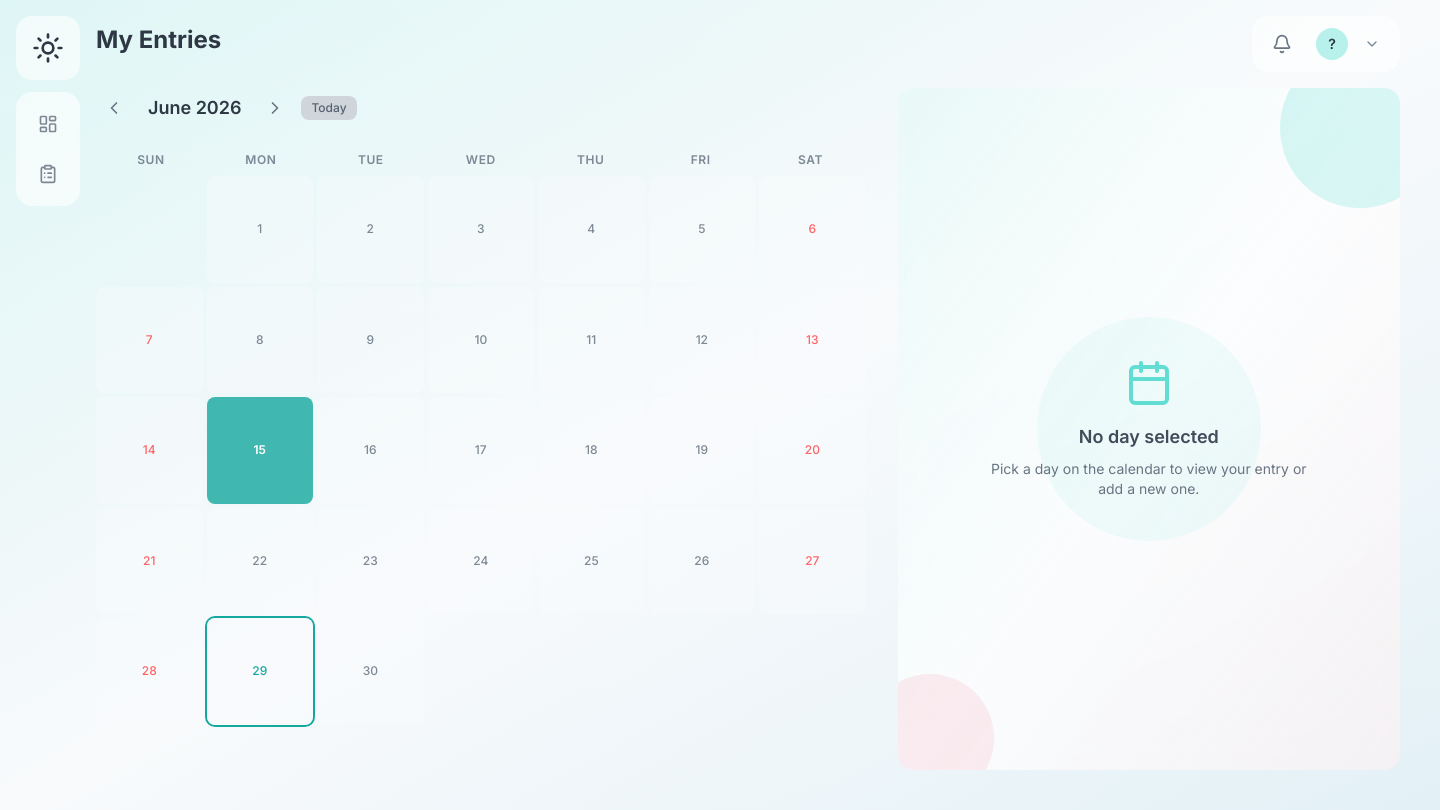
Test case: EntriesPage — delete confirmation flow › shows a delete error banner when remove fails
Click the button "15" at (260, 450), box [206,397,313,504]
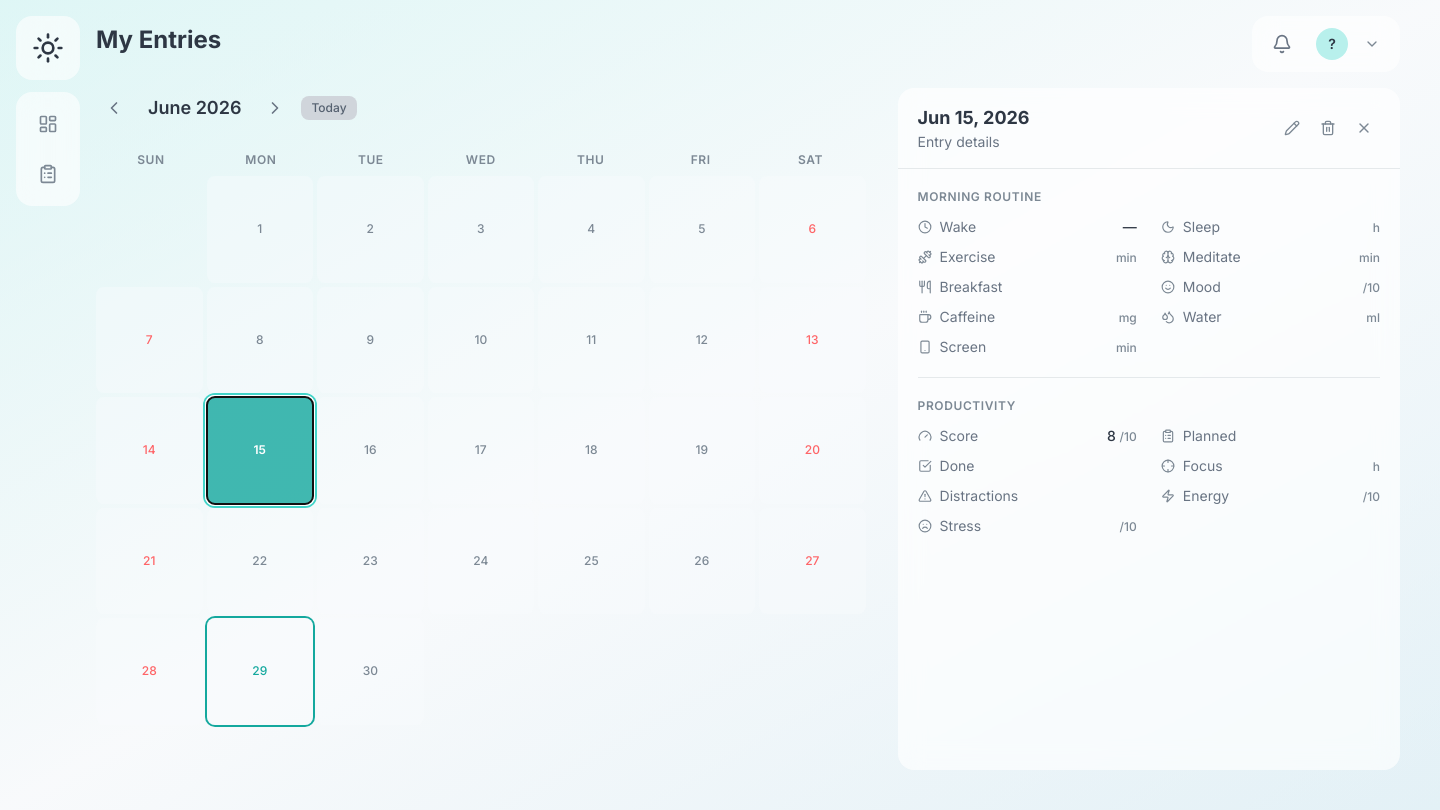
Click the button named "delete entry" at (1328, 128), box [1312,112,1344,144]
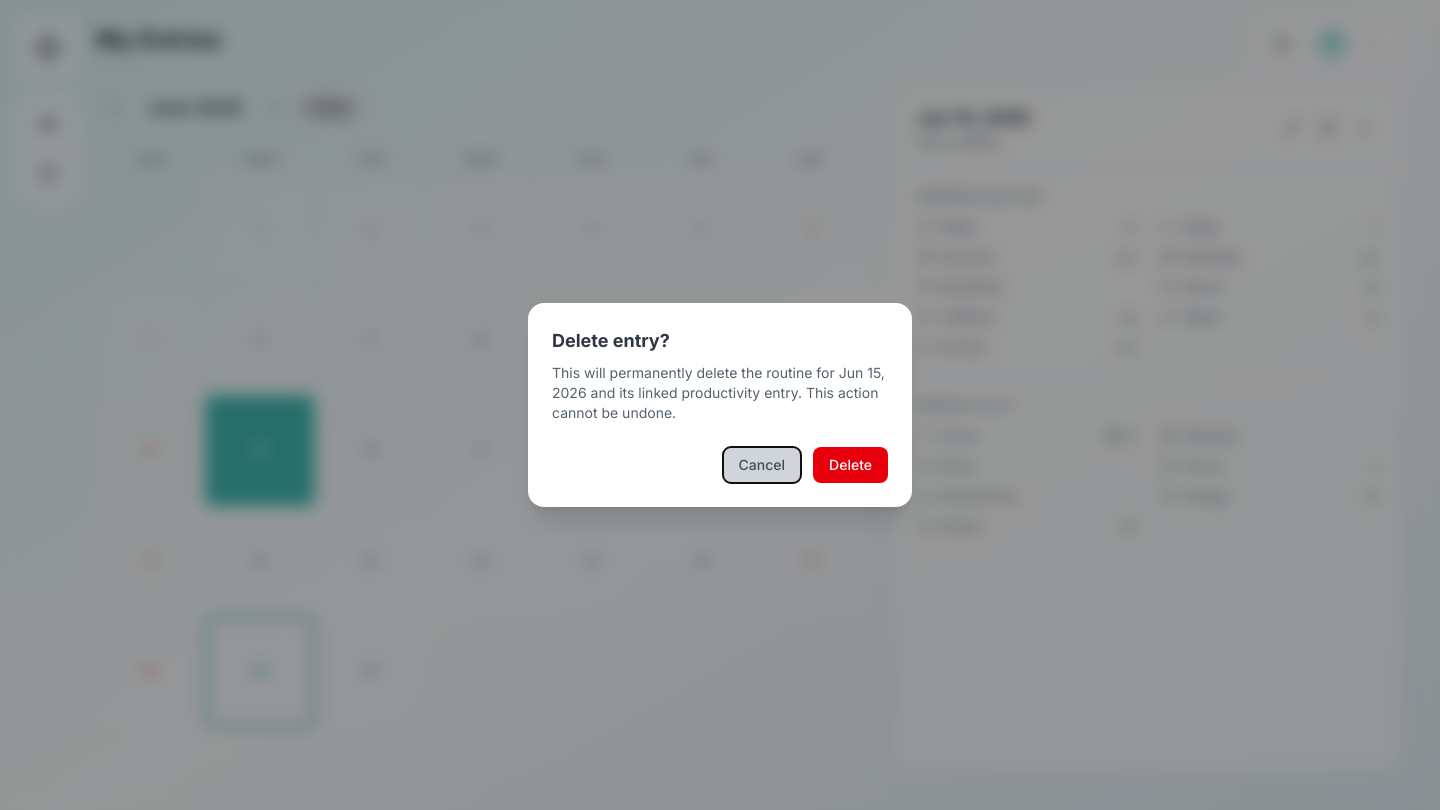
Click the button "Delete" at (851, 465), box [813,447,888,483]
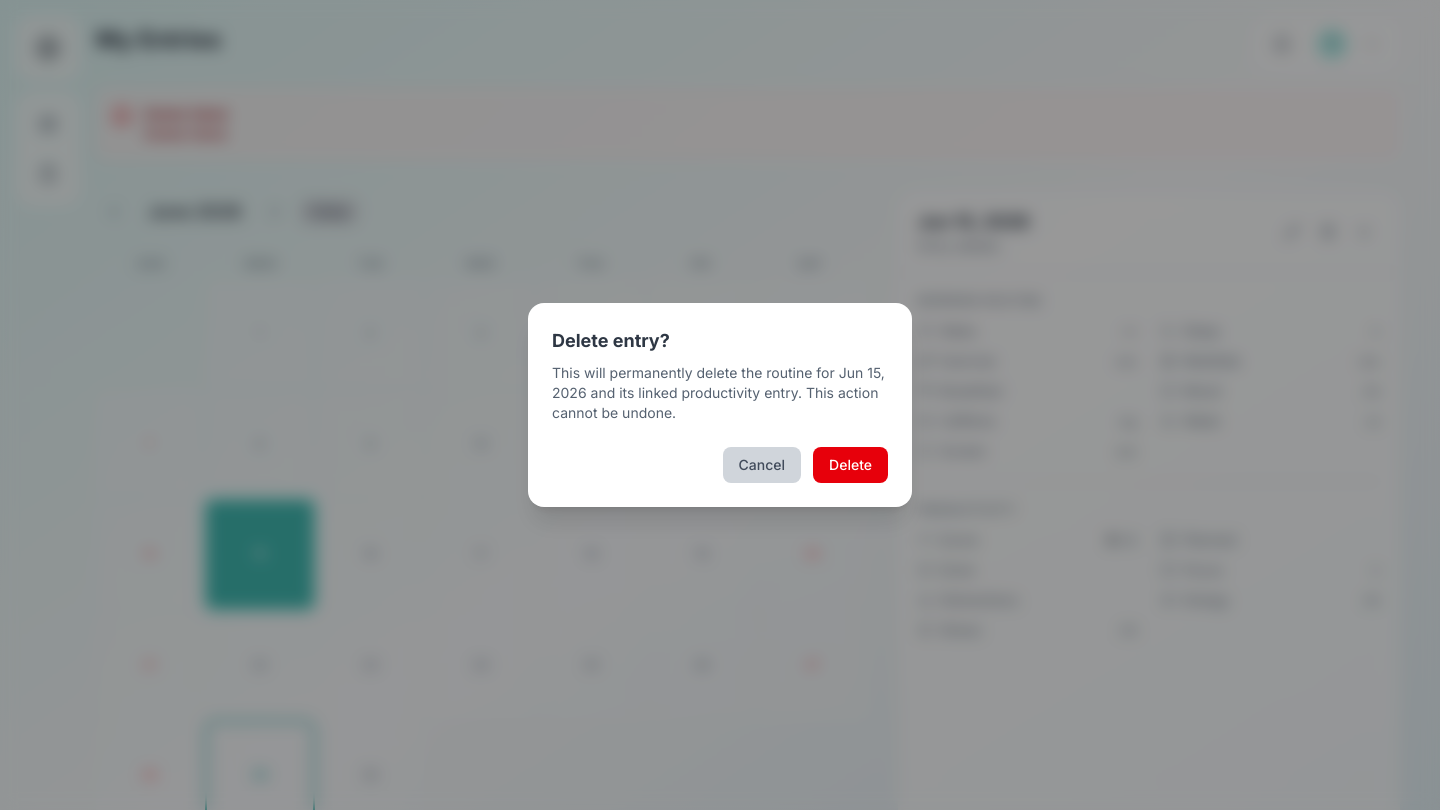
Result: the message "Delete failed Delete failed" is shown at [96,88,1400,160]
